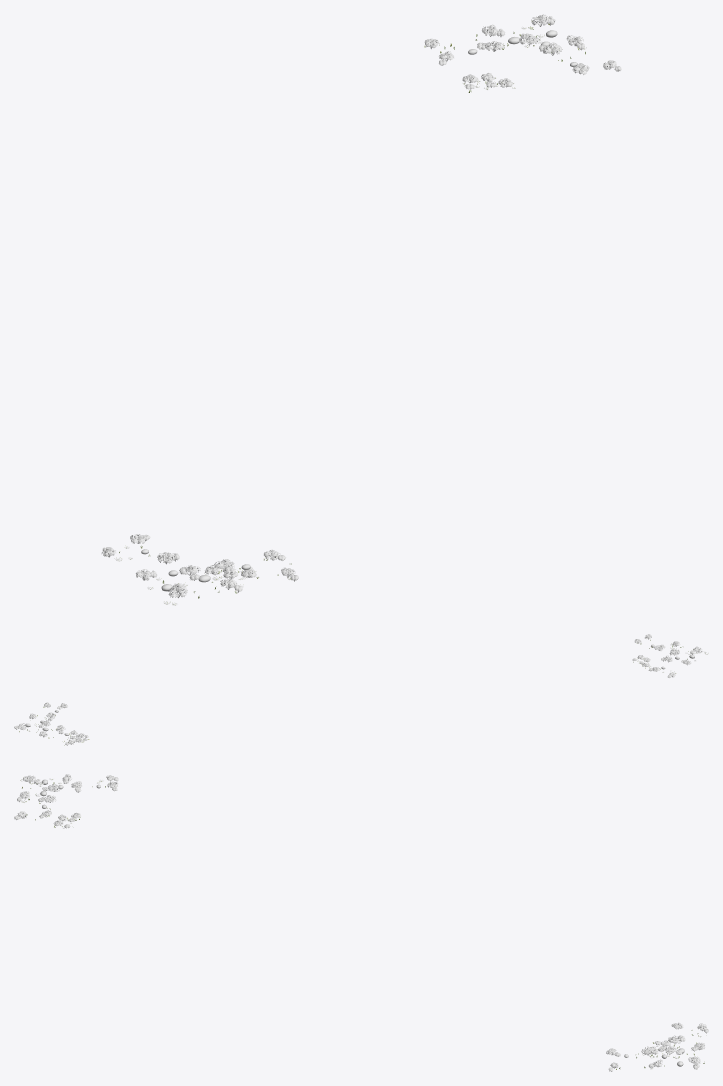
The model's file is SM_WF7_CornerUnderstory.fbx.
The picture shows the model from 3 angles, top to bottom: view 1: azimuth 30°, elevation 25°; view 2: azimuth 150°, elevation 25°; view 3: azimuth 270°, elevation 25°; orthographic projection. The views are drawn at different scales.
Visible parts, largest first — view 1: SM_WF7_CornerUnderstory; view 2: SM_WF7_CornerUnderstory; view 3: SM_WF7_CornerUnderstory.
Part boxes in pixels (<box>): SM_WF7_CornerUnderstory: <box>101,14,621,605</box>; SM_WF7_CornerUnderstory: <box>14,634,708,745</box>; SM_WF7_CornerUnderstory: <box>14,774,708,1071</box>.
Bounding box in the file's own units: 10574 × 10591 × 359.
